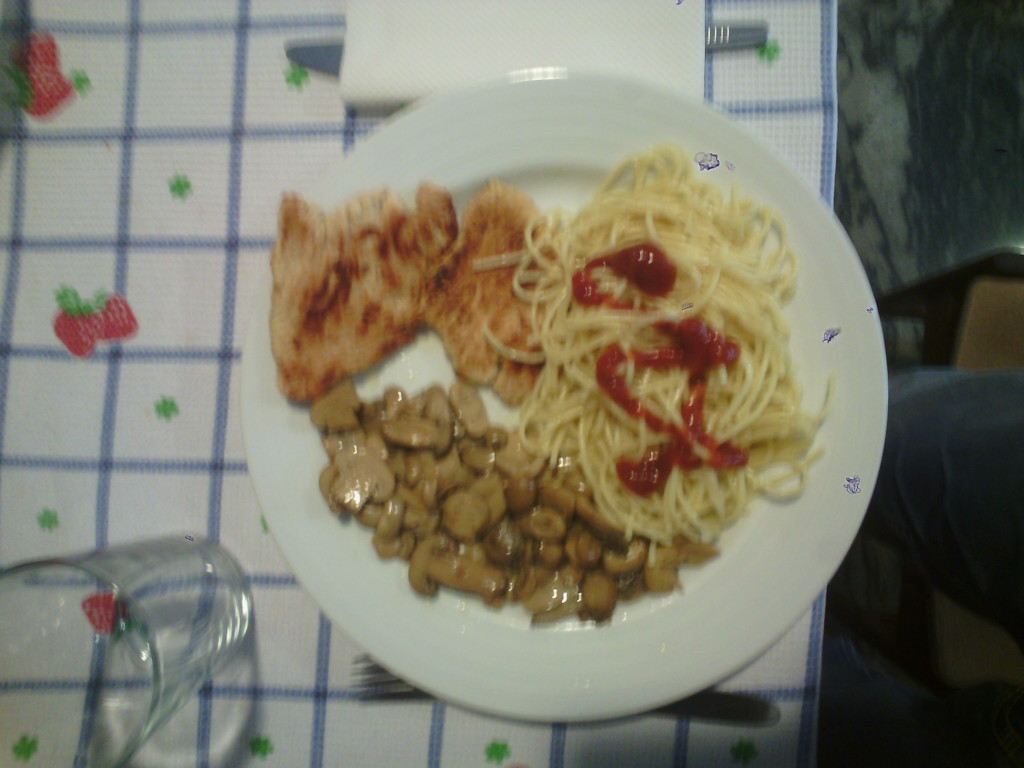81-100: (248, 75, 889, 718)
